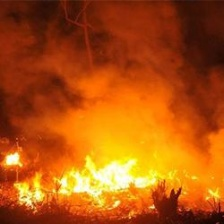fire: (67, 164, 157, 196), (3, 148, 45, 205)
smoke: (70, 1, 210, 143)
